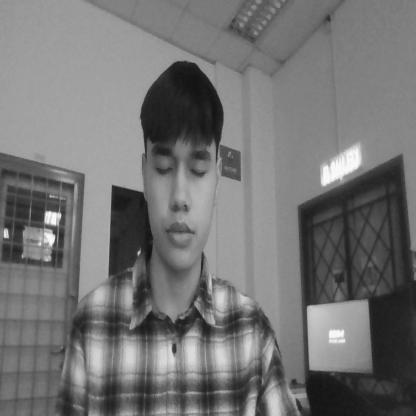Closed-Eyes: (150, 143, 214, 188)
